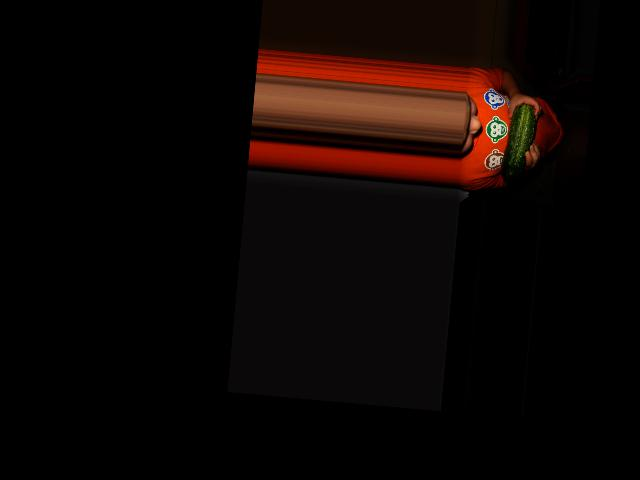cucumber: (500, 101, 537, 184)
